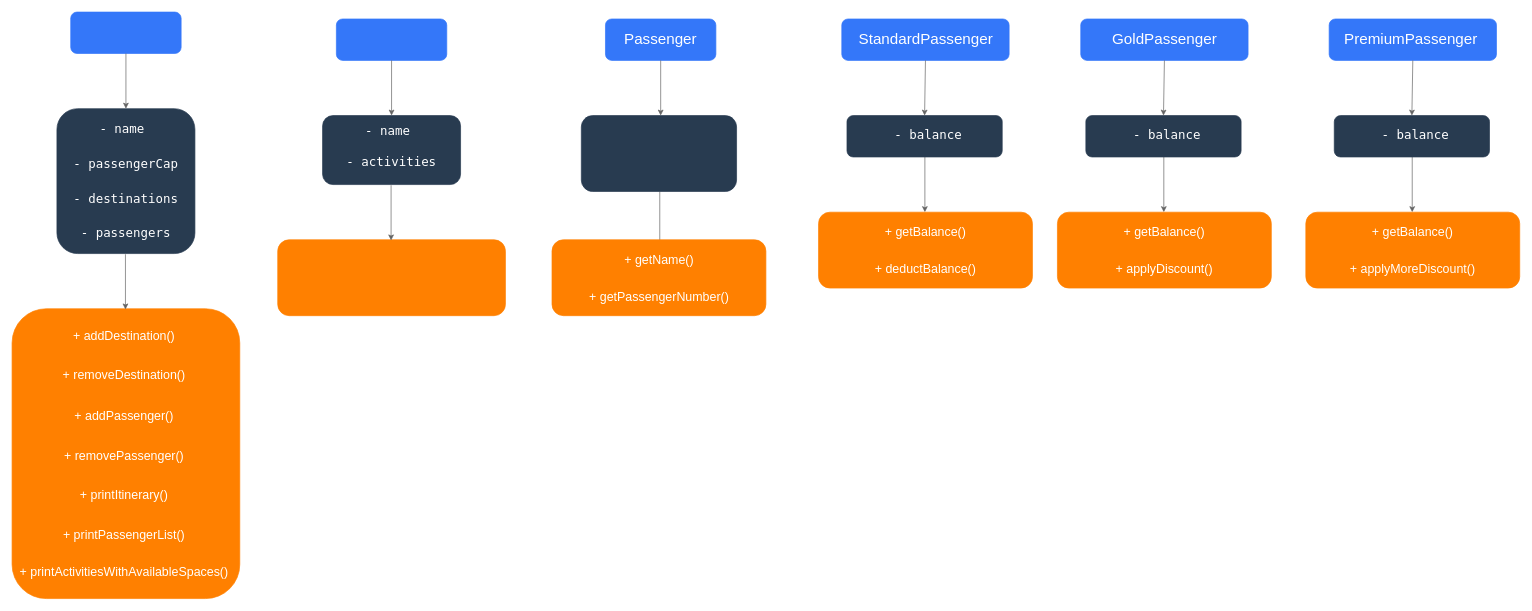
Image size: 1532x611. Some labels were removed from this diagram. The shapes that lost their labels are listed below. From the top down, each one's centre as x and y in pixels, then its label:
At point 125,32: "TravelPackage".
At point 391,39: "Destination".
At point 659,153: "- name - passengerNumber".
At point 391,277: "+ addActivity() + removeActivity()".
